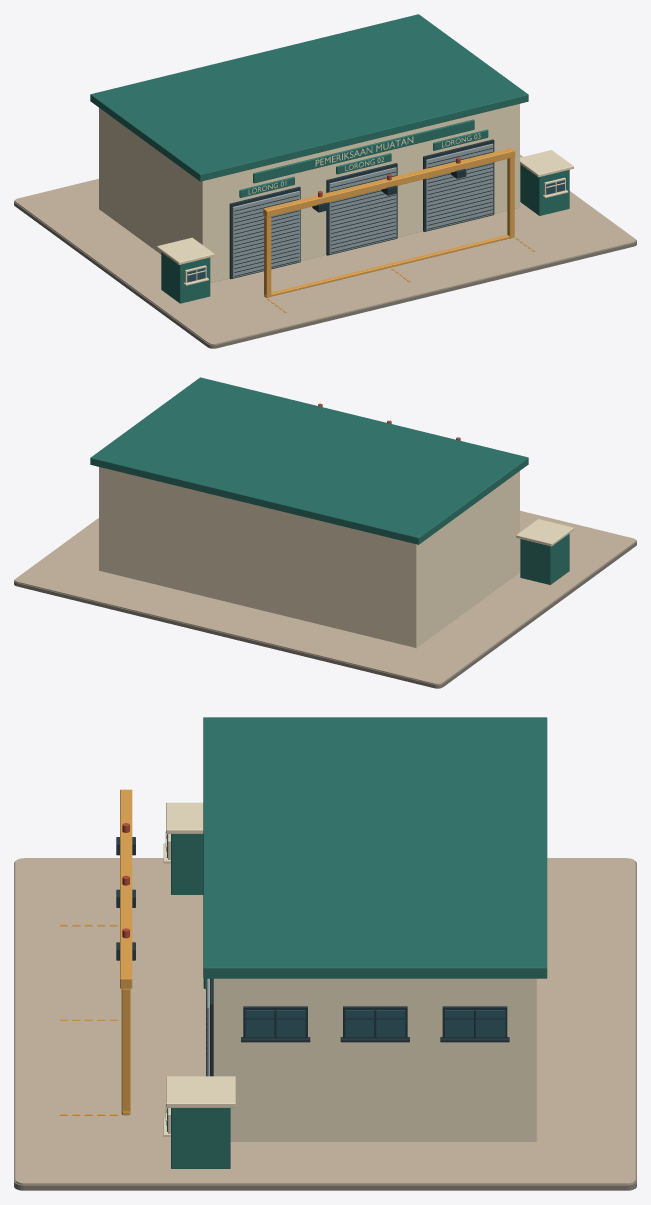
3 renders of one model, top to bottom at view 1: azimuth 30°, elevation 25°; view 2: azimuth 150°, elevation 25°; view 3: azimuth 270°, elevation 25°, orthographic. The views are drawn at different scales.
Parts seen in each view (by area): view 1: Inspection Hall, Customs Apron, Gate Booths, Inspection Gantry; view 2: Inspection Hall, Customs Apron, Gate Booths; view 3: Inspection Hall, Customs Apron, Gate Booths, Inspection Gantry.
Part boxes in pixels (x1=…): Inspection Hall: x1=90, y1=14, x2=528, y2=282; Customs Apron: x1=14, y1=154, x2=636, y2=348; Gate Booths: x1=157, y1=150, x2=573, y2=303; Inspection Gantry: x1=263, y1=148, x2=515, y2=297; Inspection Hall: x1=90, y1=377, x2=528, y2=648; Customs Apron: x1=14, y1=510, x2=636, y2=688; Gate Booths: x1=516, y1=519, x2=573, y2=584; Inspection Hall: x1=203, y1=717, x2=547, y2=1141; Customs Apron: x1=14, y1=858, x2=636, y2=1190; Gate Booths: x1=163, y1=802, x2=235, y2=1168; Inspection Gantry: x1=116, y1=789, x2=135, y2=1115.
Bounding box in the file's own units: 31 × 8.2 × 25.
